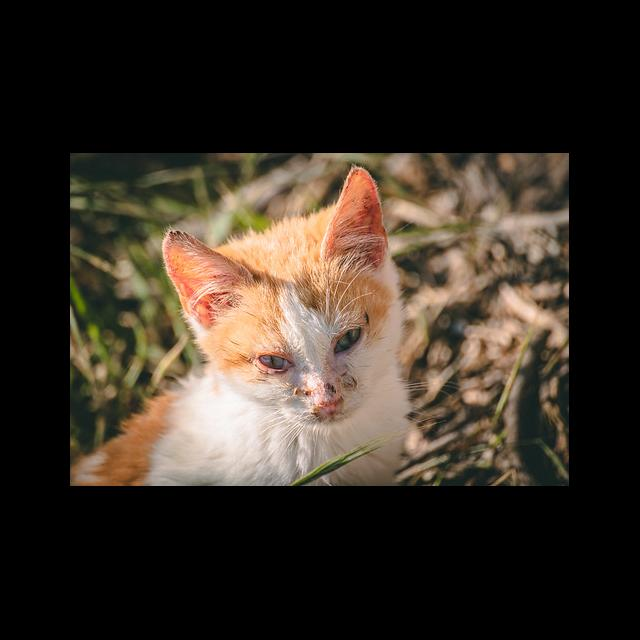animals: (71, 168, 406, 487)
